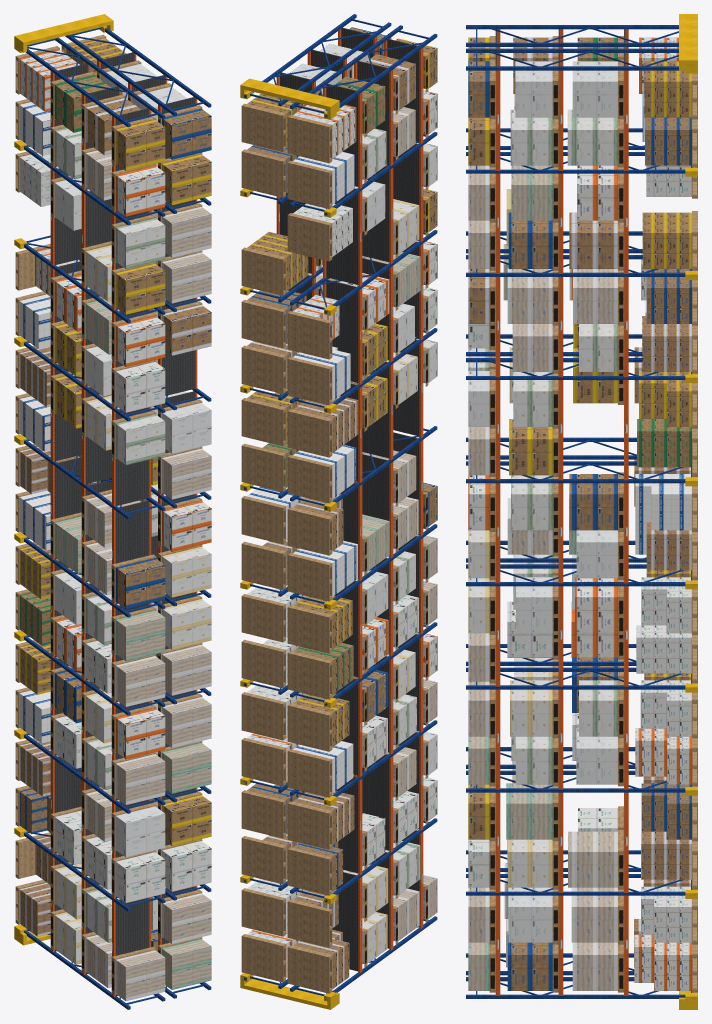
The model's file is racks_e4_n.gltf.
The picture shows the model from 3 angles, left to right: view 1: azimuth 30°, elevation 25°; view 2: azimuth 150°, elevation 25°; view 3: azimuth 270°, elevation 25°; orthographic projection. The views are drawn at different scales.
Parts seen in each view (by area): view 1: racks_e4_n; view 2: racks_e4_n; view 3: racks_e4_n.
Boxes of the visible parts, x1,y1,x2,y2 form: racks_e4_n: [14, 14, 211, 1009]; racks_e4_n: [240, 14, 437, 1009]; racks_e4_n: [466, 14, 697, 1009].
Size of the model in its own units: 2.6 by 24.86 by 5.5.
Materials: 21 (21 with a texture image).
